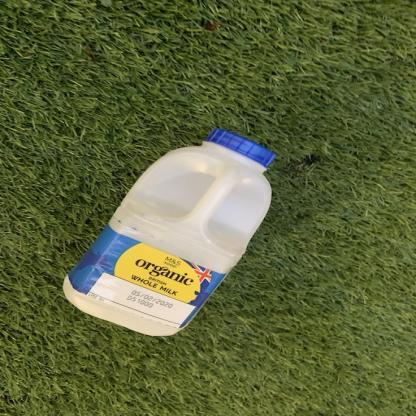trash: (59, 126, 279, 338)
